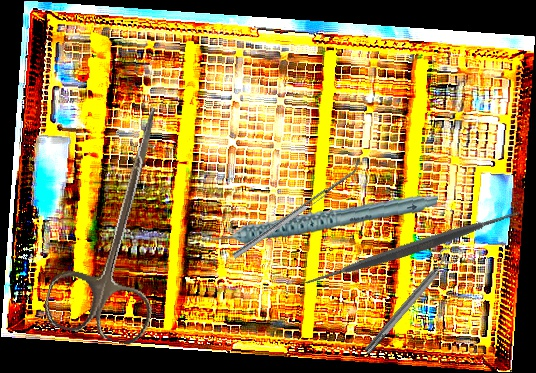Fixation Ring: (357, 244, 462, 359)
Handpiece: (200, 177, 438, 258)
Iris Scissors: (40, 93, 200, 349)
Spatula Surgical: (292, 127, 533, 368), (228, 157, 366, 260)
